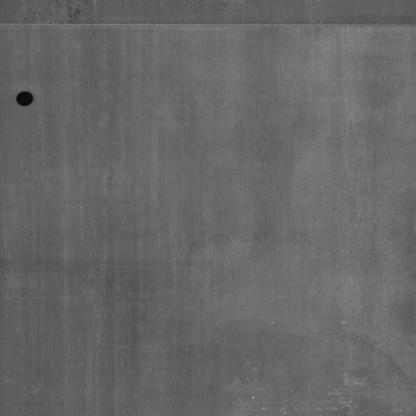punching_hole: (14, 85, 37, 111)
welding_line: (0, 11, 416, 40)
